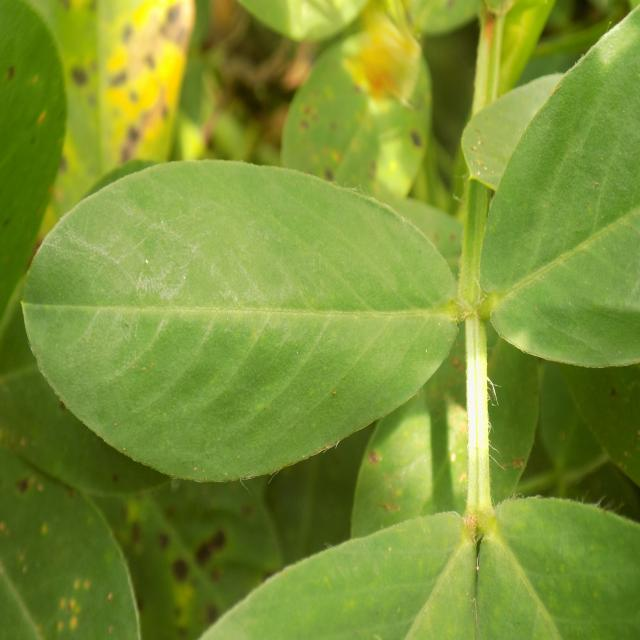Ground nut_healthy: (20, 161, 457, 483)
